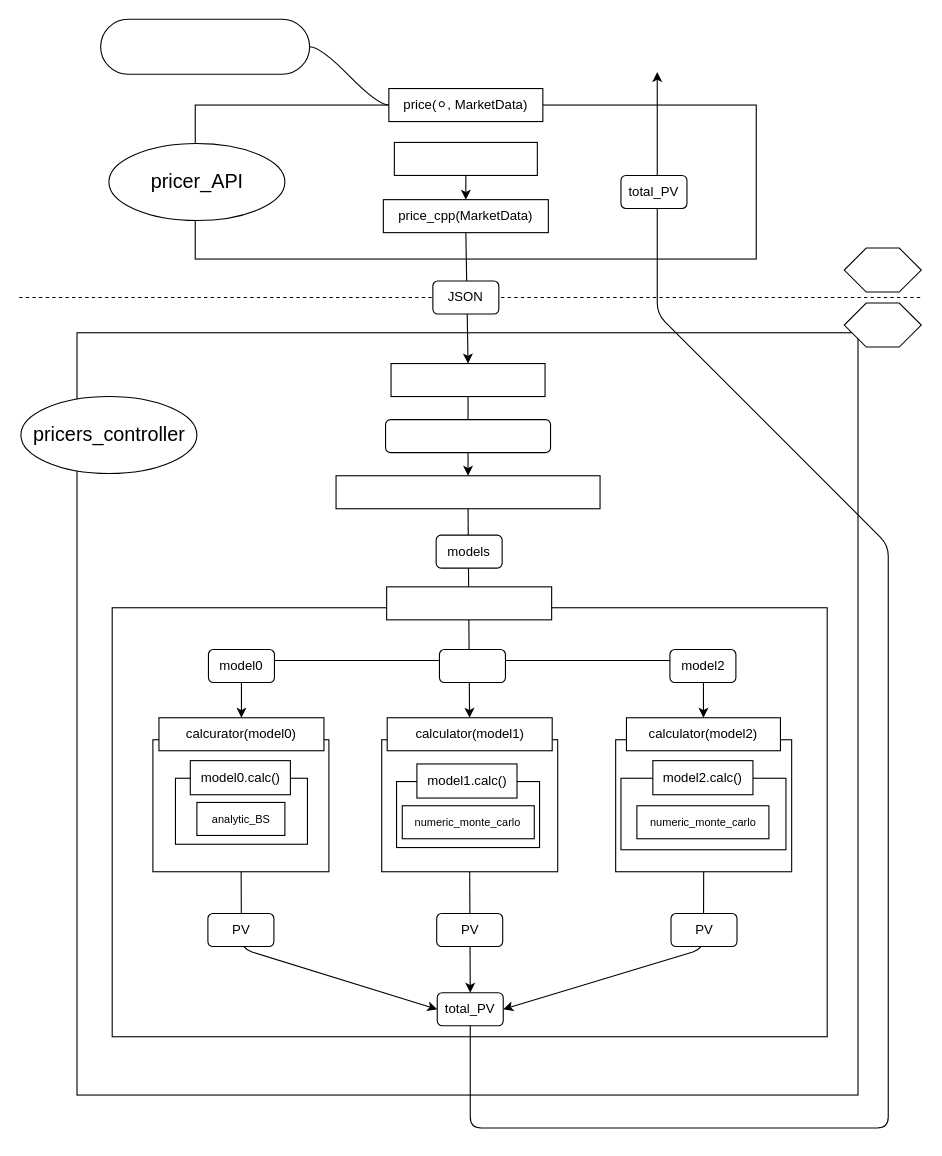
Image size: 942x1156. Some labels were removed from this diagram. The shapes that lost their labels are listed below. From the top down, each one's box as (x1, y1, x2, y2) in pixels, then its label:
(100, 18, 310, 74): import from pricers ※ pricersはpydファイル
(393, 141, 537, 175): validate(MarketData)
(843, 247, 921, 292): Python
(843, 302, 921, 347): C++
(390, 362, 545, 397): Converter(json_data)
(384, 419, 551, 453): trade_data, parameters
(335, 475, 600, 509): ModelGenerater(trade_data, parameters)
(386, 586, 552, 620): price_controller(models)
(438, 648, 505, 683): model1
